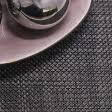ironball: (4, 0, 71, 31), (0, 0, 1, 52)
